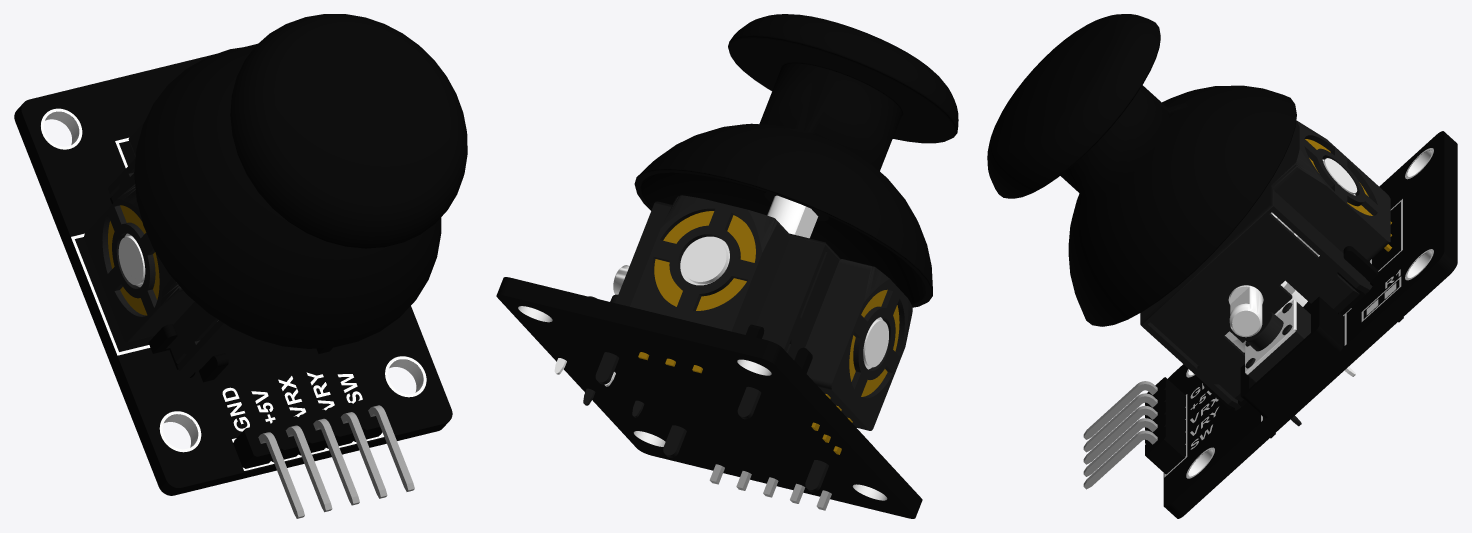
File: 7. JOYSTICK.gltf
The picture shows the model from 3 angles, left to right: view 1: azimuth 30°, elevation 25°; view 2: azimuth 150°, elevation 25°; view 3: azimuth 270°, elevation 25°; orthographic projection. The views are drawn at different scales.
Visible parts, largest first — view 1: Tactile-Switch.001; view 2: Tactile-Switch.001; view 3: Tactile-Switch.001.
Boxes of the visible parts, <box> form: Tactile-Switch.001: <box>14,14,467,518</box>; Tactile-Switch.001: <box>496,14,958,518</box>; Tactile-Switch.001: <box>987,14,1457,518</box>.
Bounding box in the file's own units: 0.0272 × 0.0407 × 0.0402.
